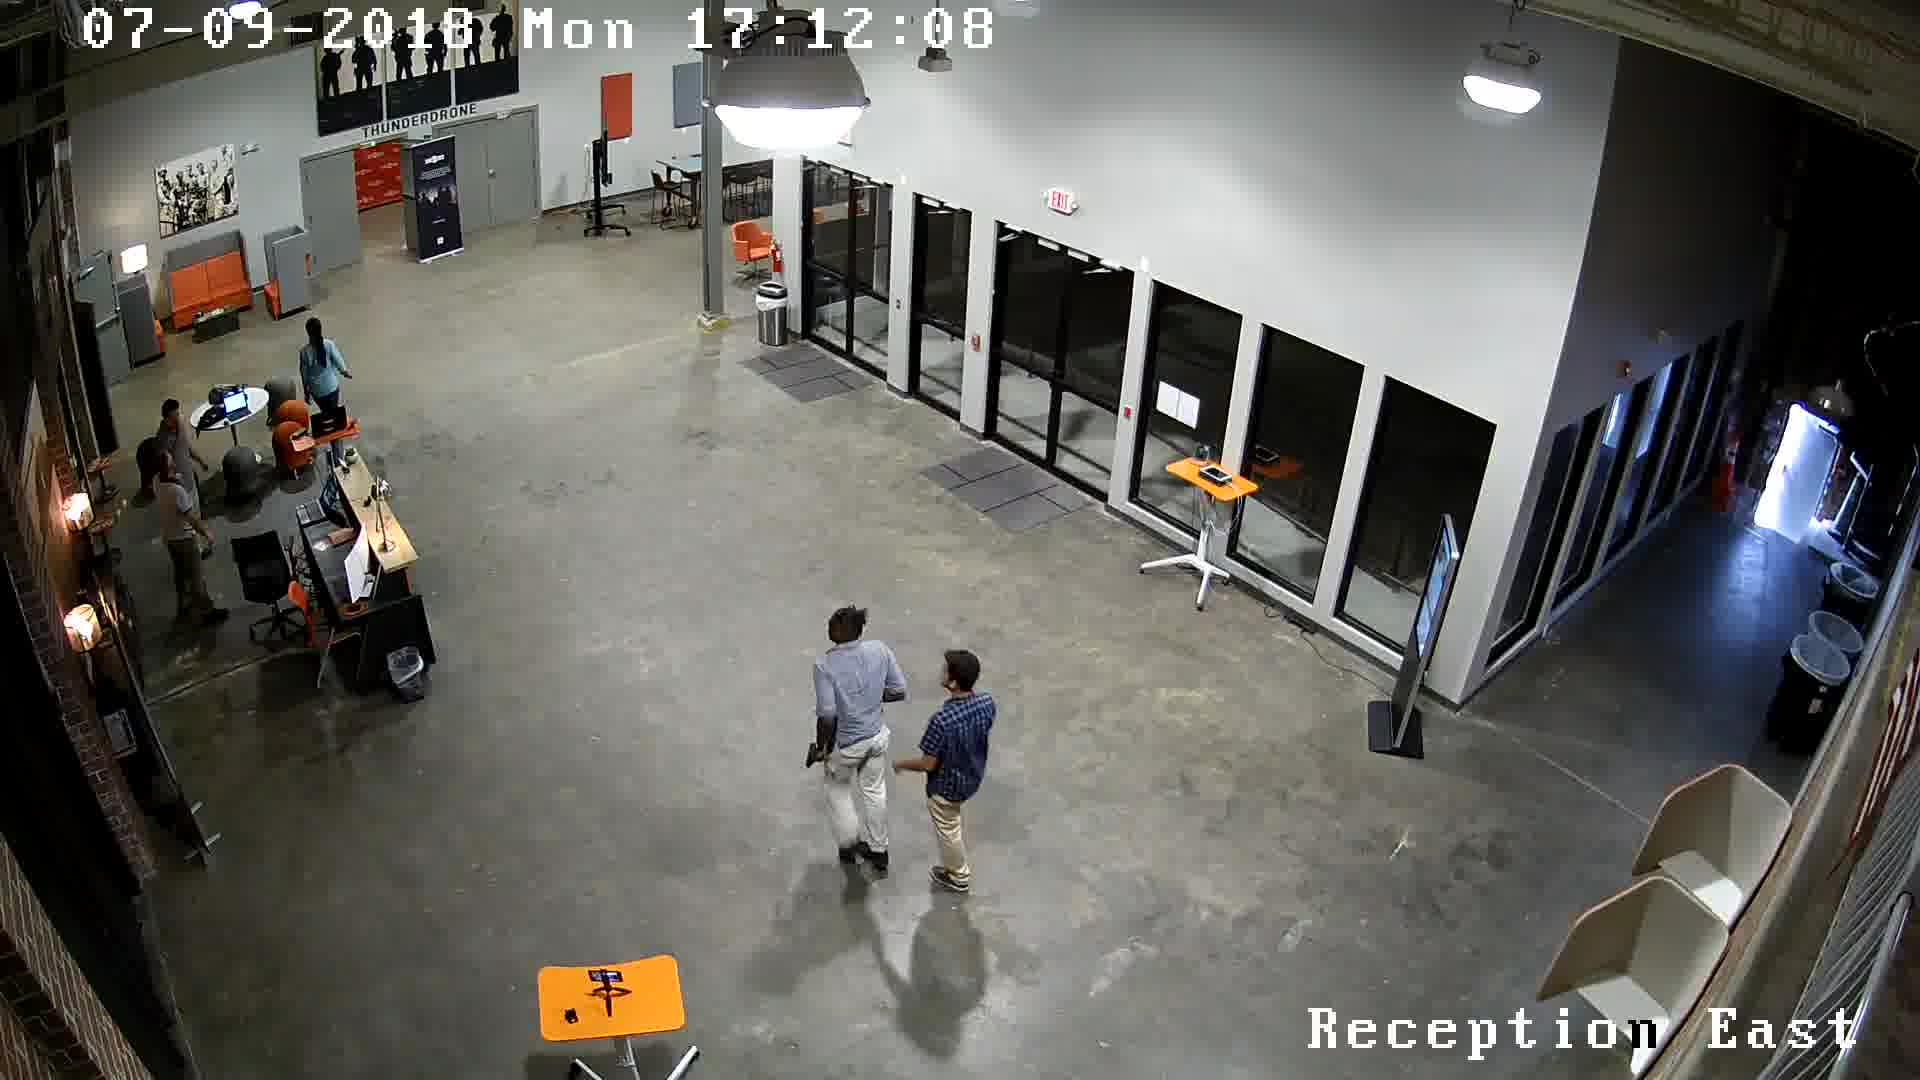pistol: (785, 733, 833, 779)
